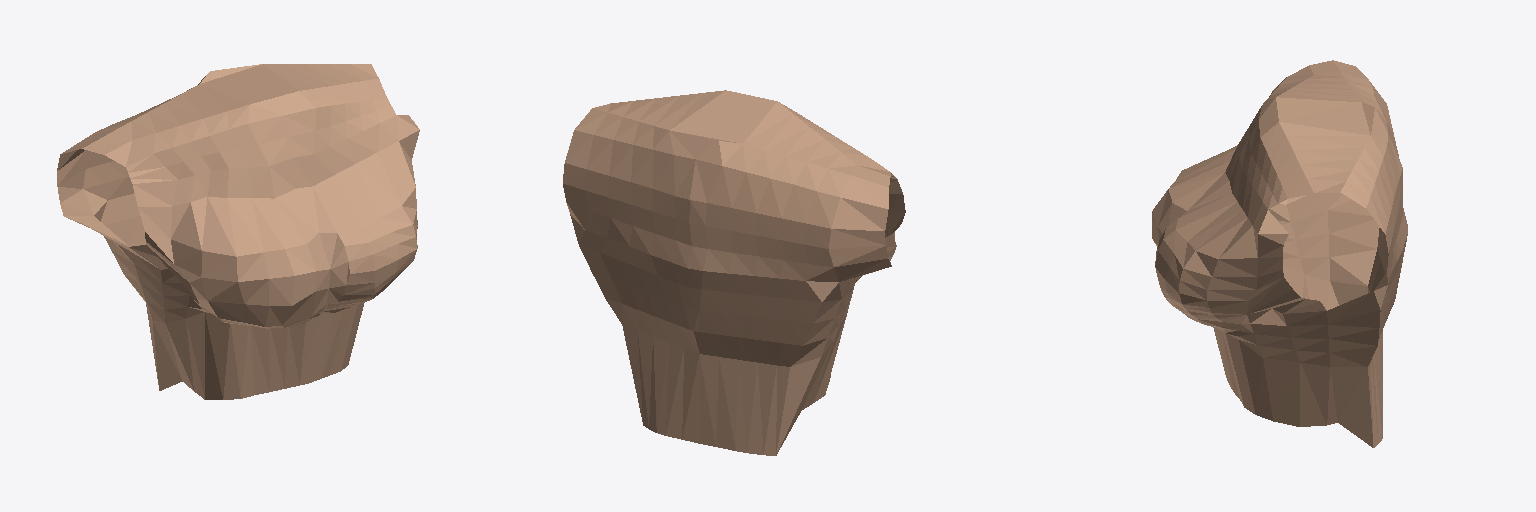
Rendered from Chest.obj.
The picture shows the model from 3 angles: view 1: azimuth 30°, elevation 25°; view 2: azimuth 150°, elevation 25°; view 3: azimuth 270°, elevation 25°; orthographic projection.
Visible parts, largest first — view 1: Cube.001_Lilith_Model.000; view 2: Cube.001_Lilith_Model.000; view 3: Cube.001_Lilith_Model.000.
Boxes of the visible parts, box(x1,y1,x2,y2) form: Cube.001_Lilith_Model.000: box(57, 64, 419, 399); Cube.001_Lilith_Model.000: box(563, 90, 905, 455); Cube.001_Lilith_Model.000: box(1152, 60, 1407, 447).
Bounding box in the file's own units: 27.92 × 26.14 × 19.55.